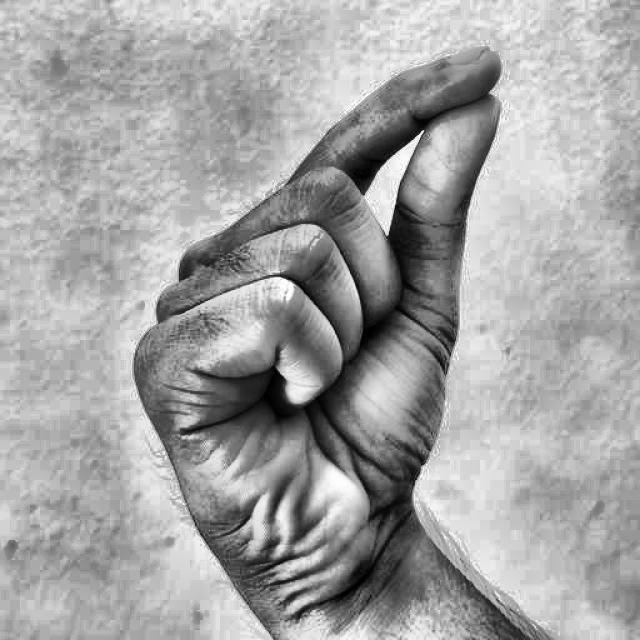Anusshar: (112, 22, 530, 618)
